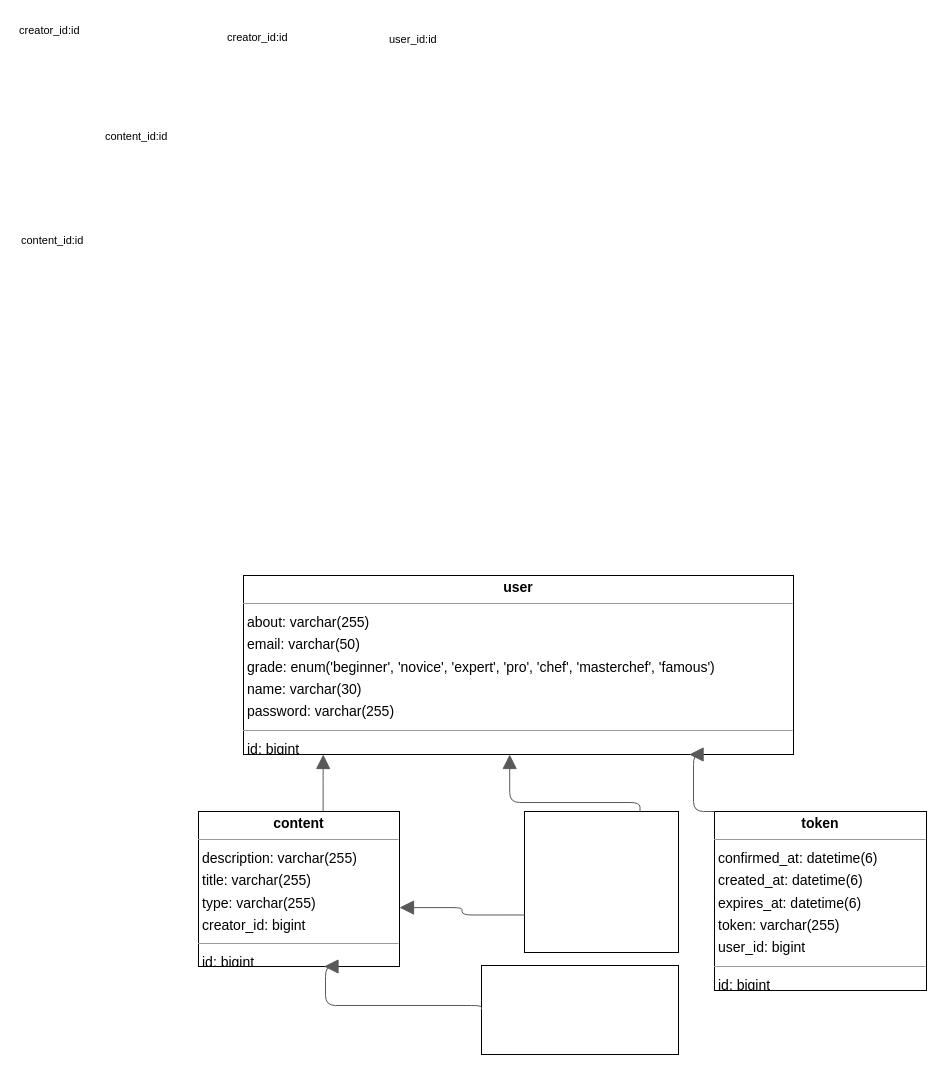
This 944x1072 diagram has some shape labels left out. Here are the shapes that lost their labels. From the top down, the centre of each, then its label:
At [601,881]: "comment text: varchar(255) content_id: bigint creator_id: bigint id: bigint".
At [579,1009]: "content_products content_id: bigint products: varchar(255)".
